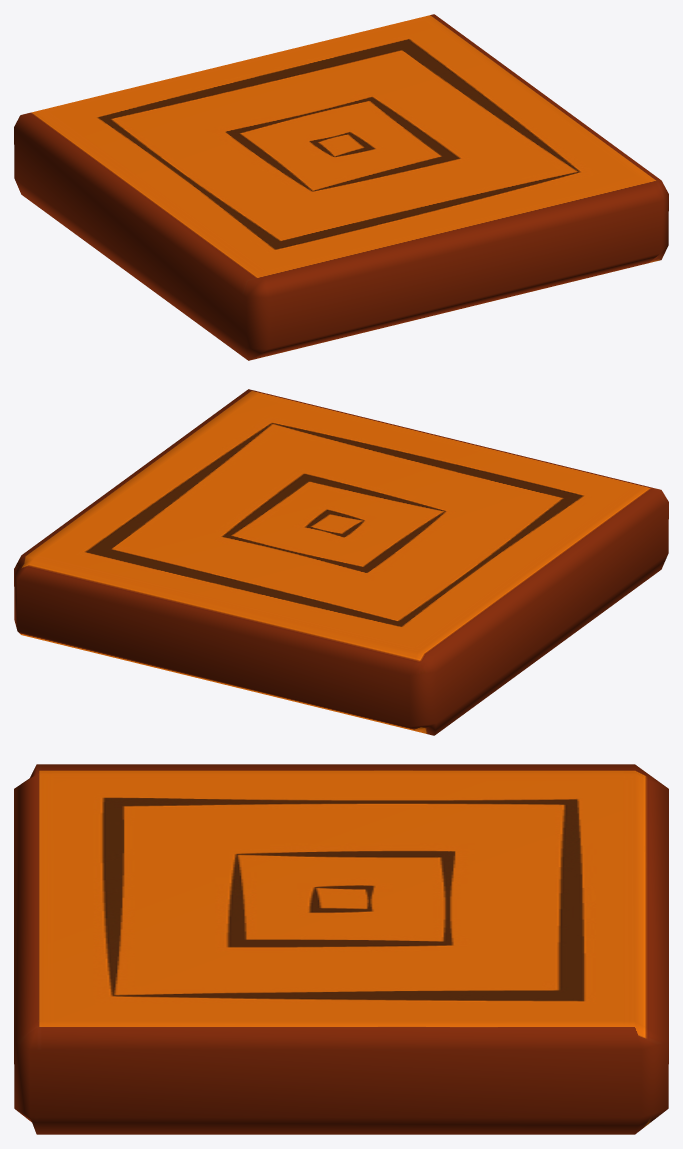
File: BlockWood.fbx
3 views of the same model, one above another, from view 1: azimuth 30°, elevation 25°; view 2: azimuth 150°, elevation 25°; view 3: azimuth 270°, elevation 25° (orthographic). The views are drawn at different scales.
Parts seen in each view (by area): view 1: BlockWood; view 2: BlockWood; view 3: BlockWood.
Boxes of the visible parts, <box> form: BlockWood: <box>14,14,668,360</box>; BlockWood: <box>14,389,668,735</box>; BlockWood: <box>14,764,668,1134</box>.
Bounding box in the file's own units: 1.44 × 0.2588 × 1.46.
